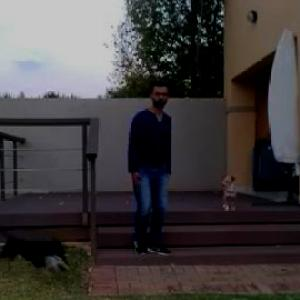follow: (124, 81, 172, 283)
